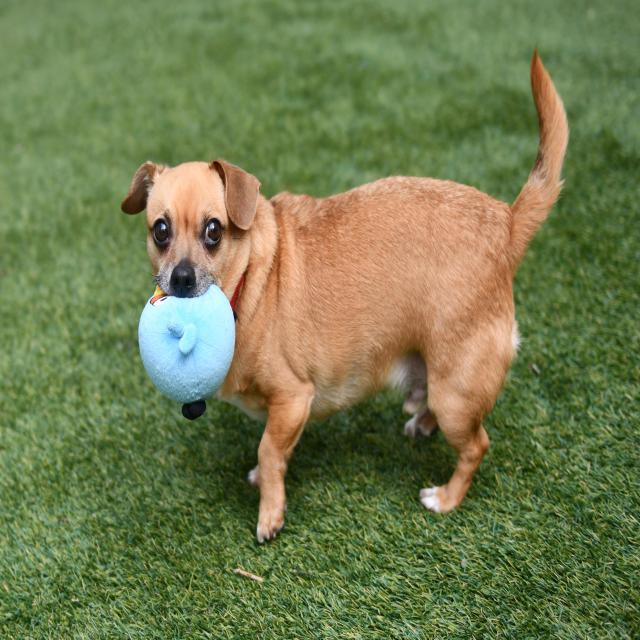chihuahua_dog: (115, 150, 268, 340)
